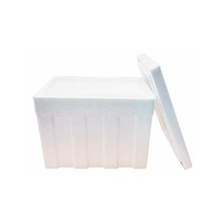foam_box: (25, 47, 197, 177), (29, 71, 159, 172), (133, 47, 197, 177)
